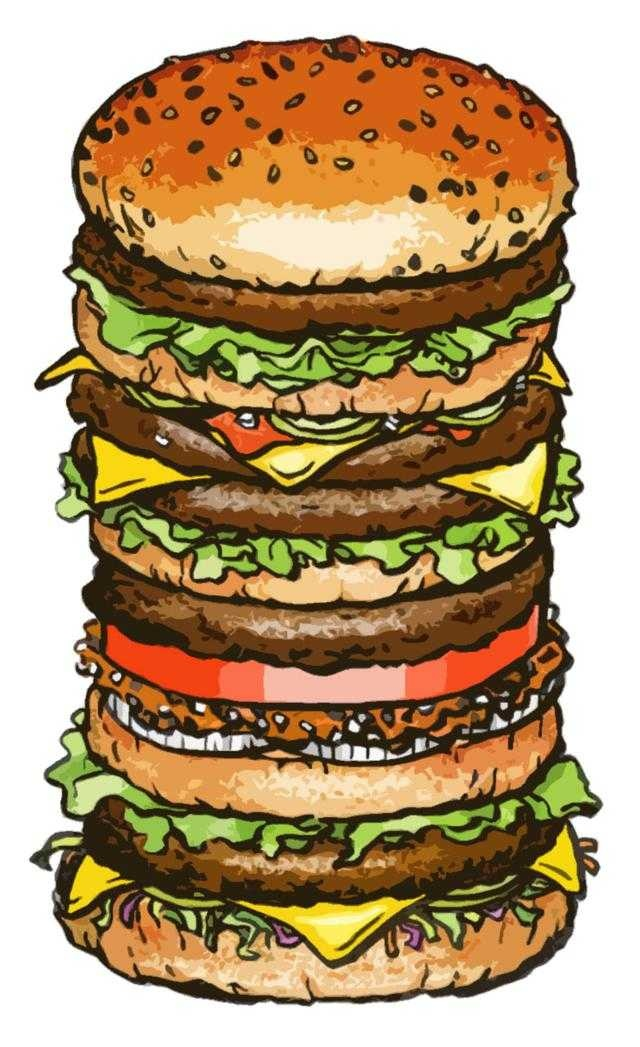hamburger: (44, 25, 598, 1005)
